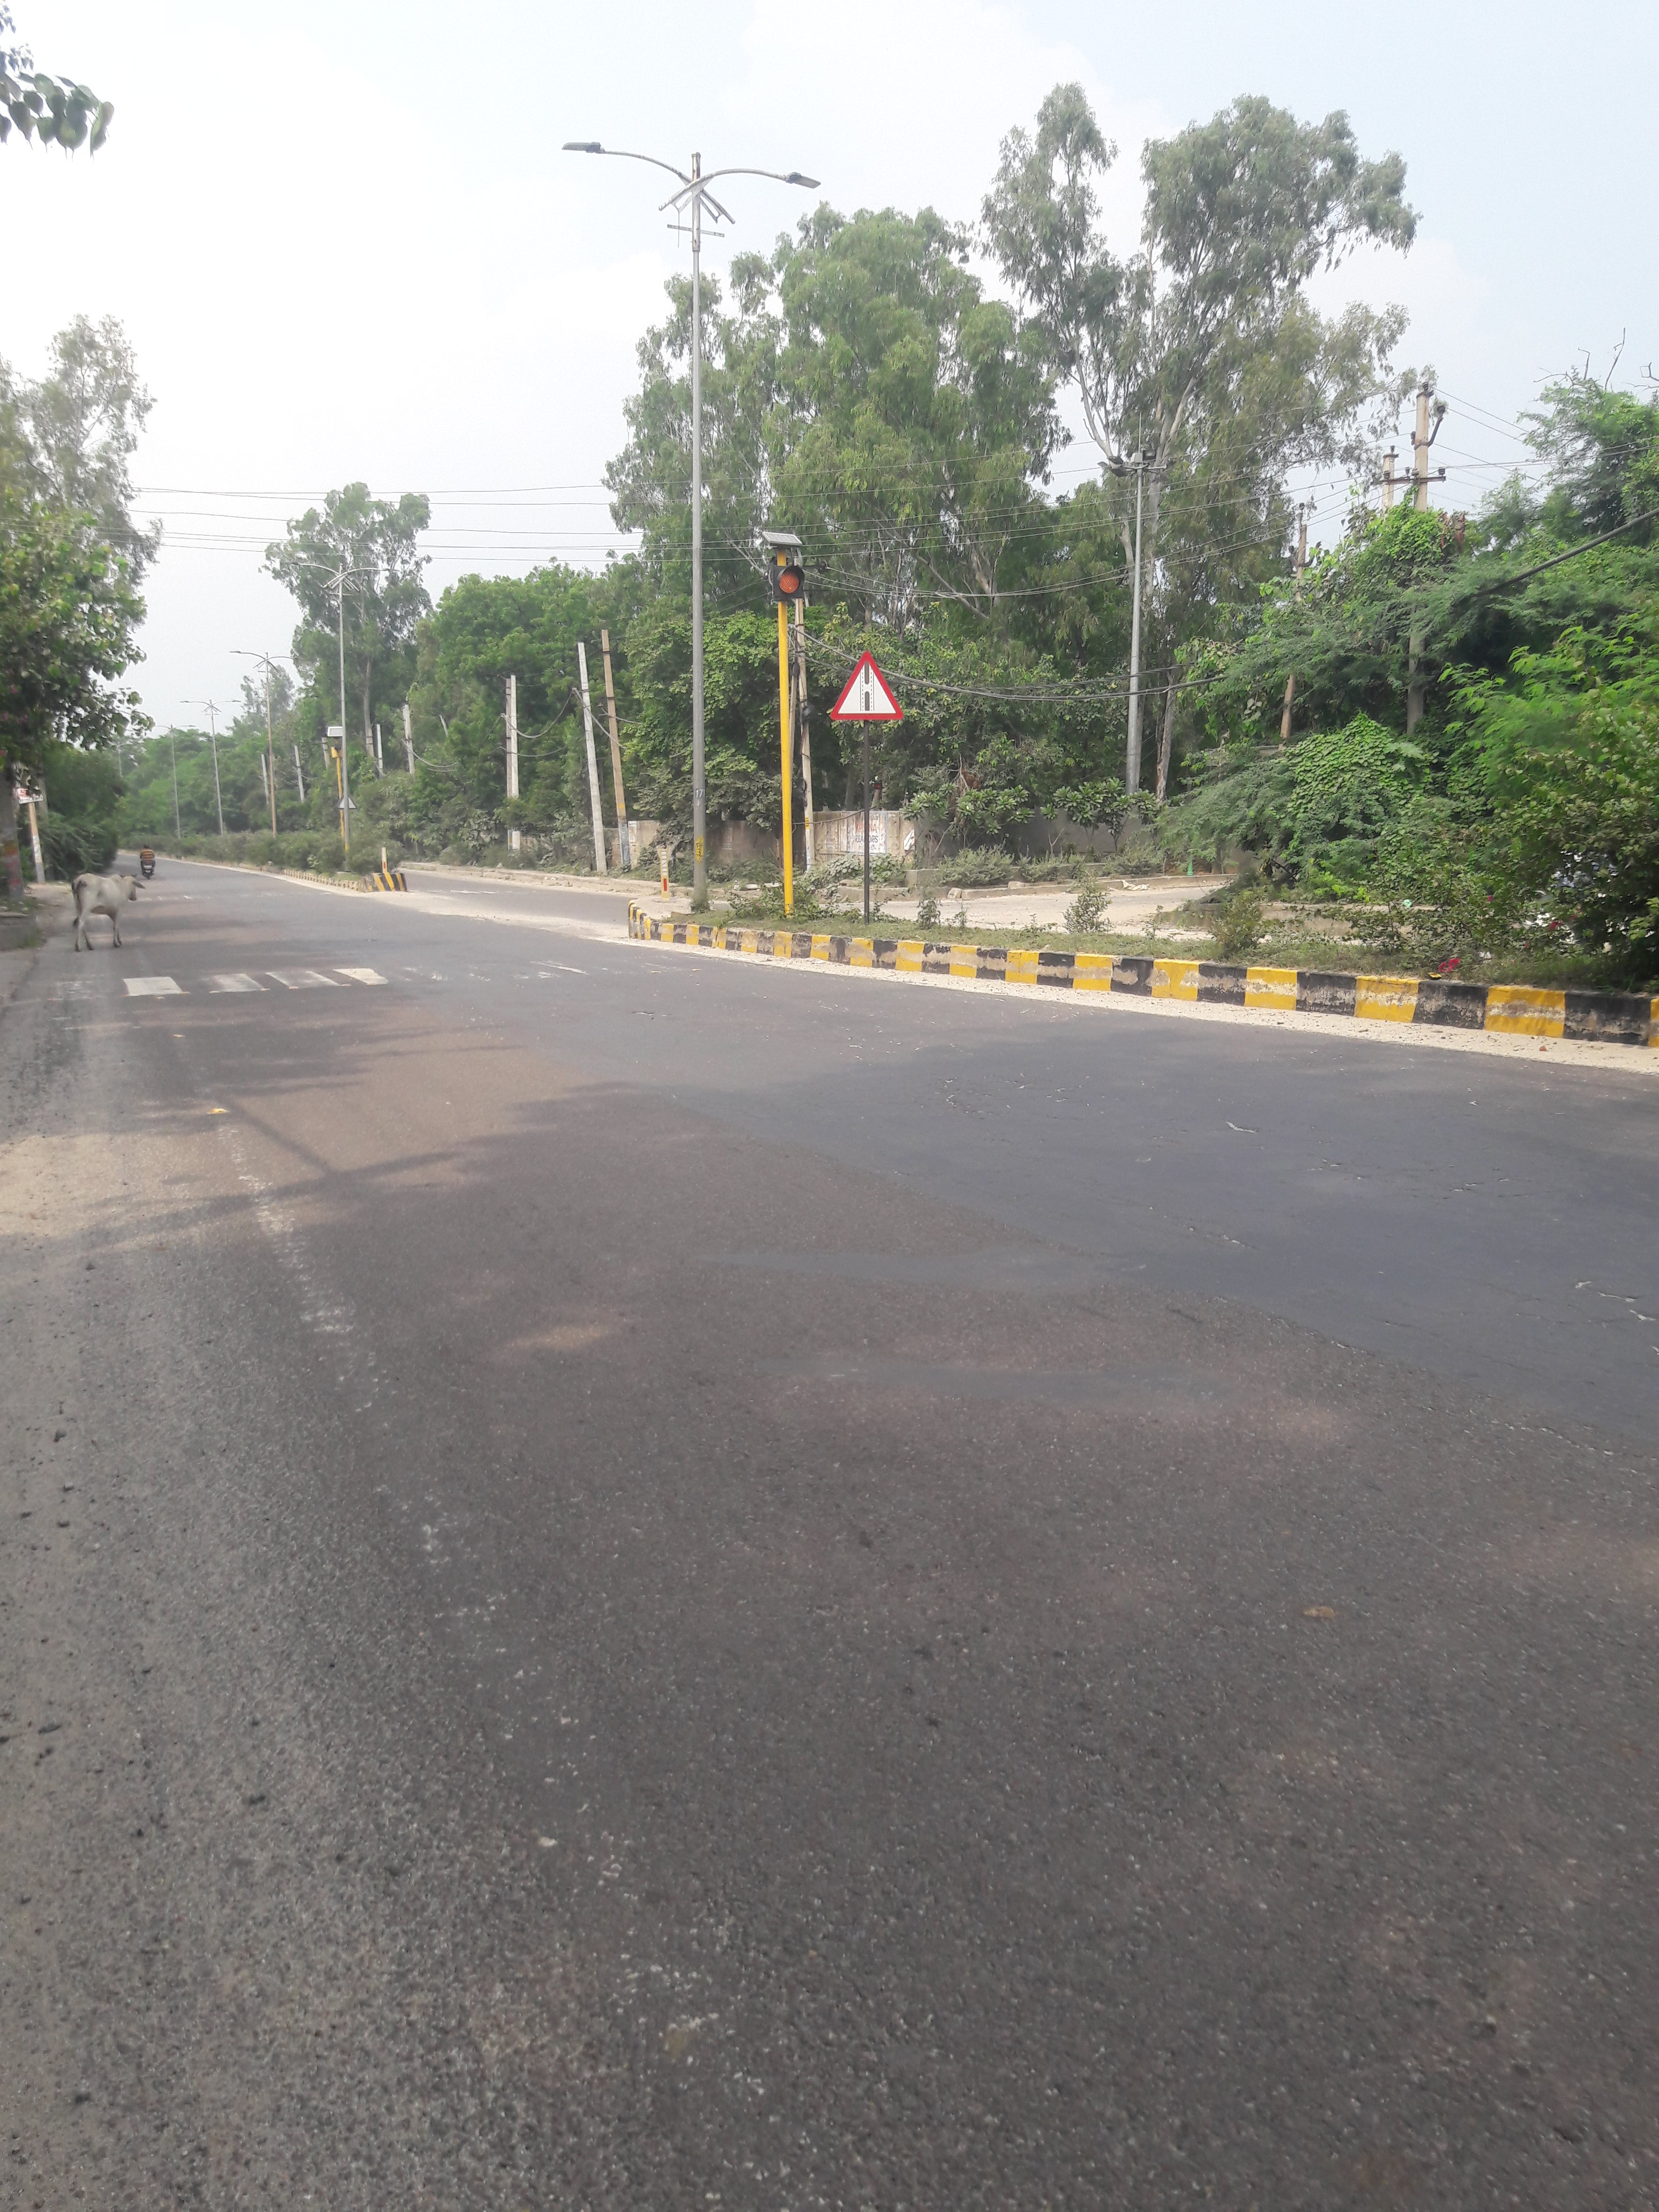traffic_sign: (831, 653, 903, 723), (770, 564, 807, 603)
